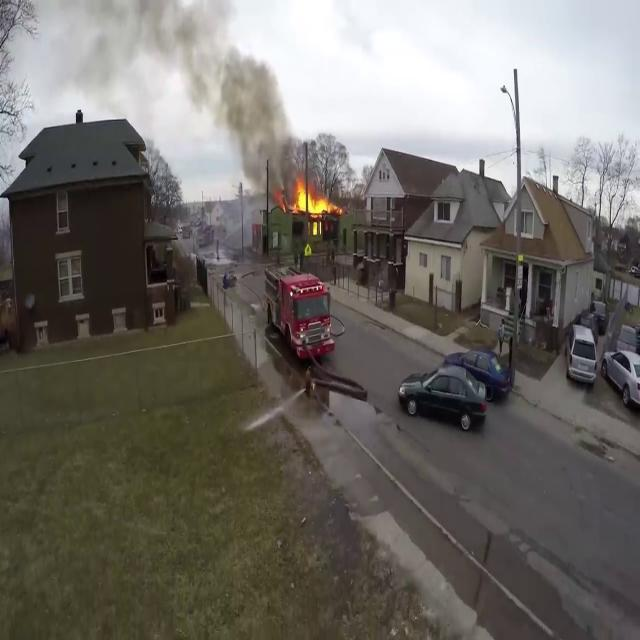Fire: (290, 176, 340, 226)
Smoke: (190, 0, 305, 172), (53, 0, 205, 118)
